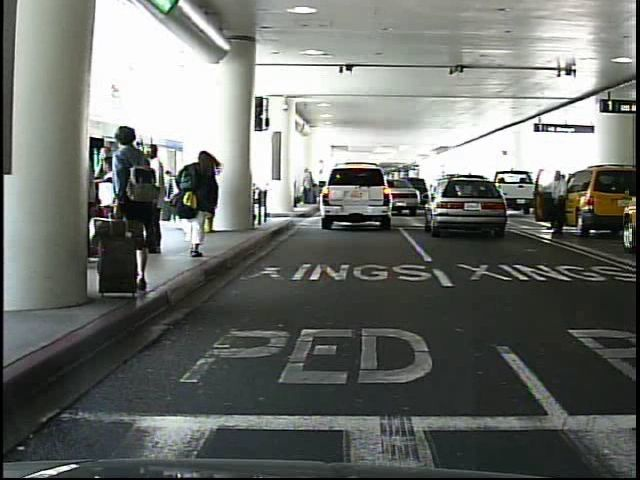person: (101, 118, 154, 294), (182, 146, 224, 264), (140, 142, 171, 255), (170, 157, 198, 233), (546, 173, 569, 237)
